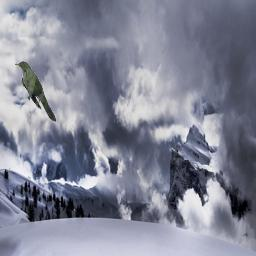Cuckoo: (15, 61, 58, 122)
